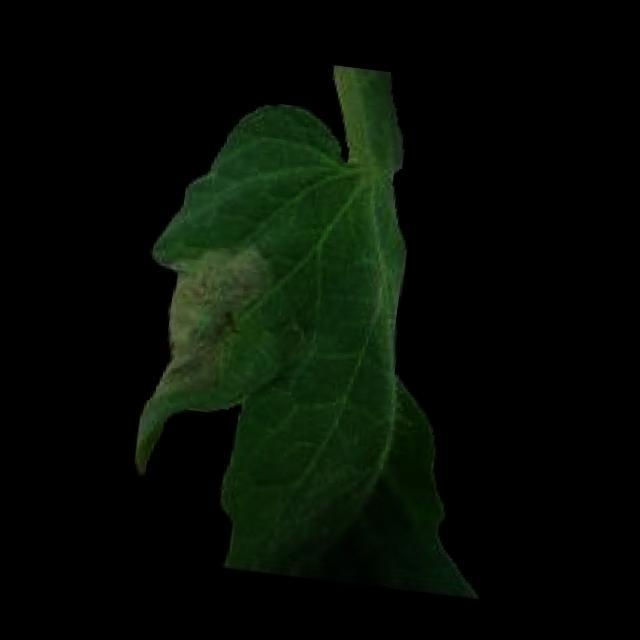Tomato late blight leaf: (113, 78, 535, 601)
